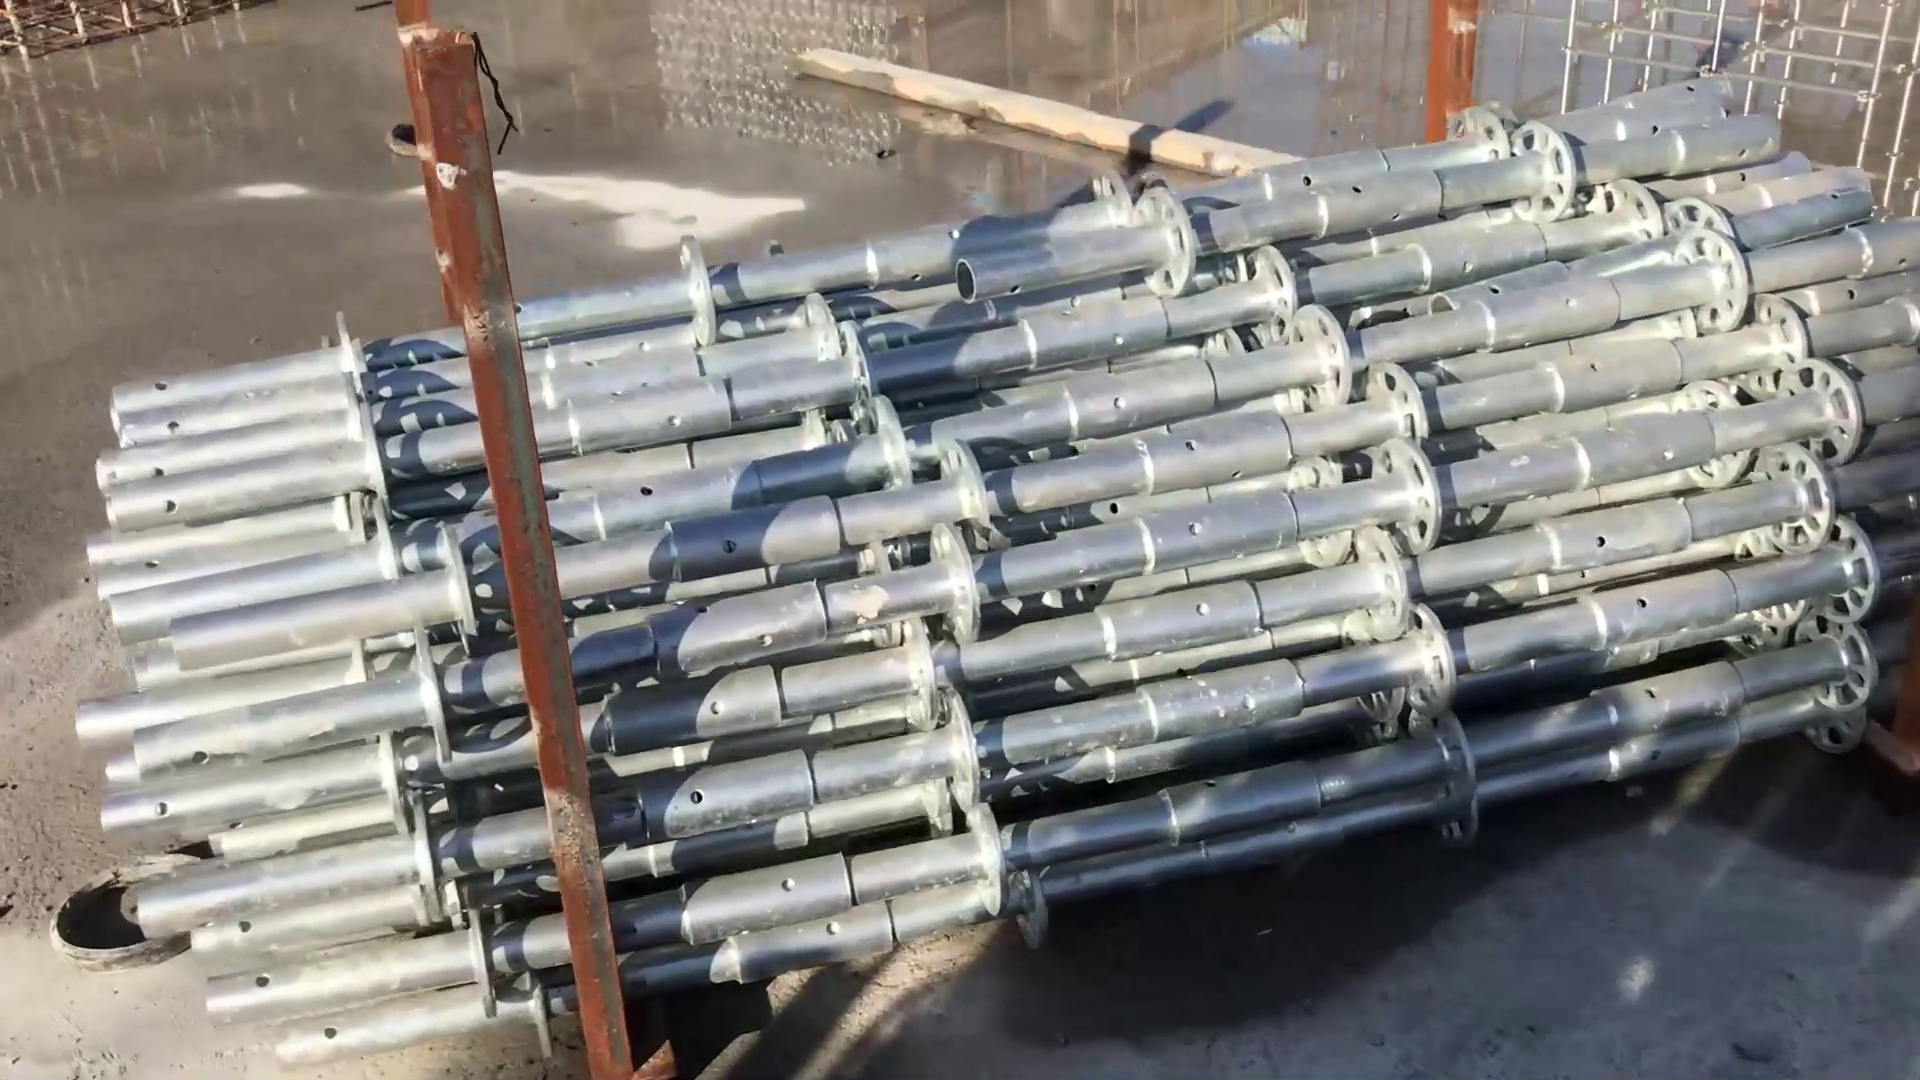scaffold: (86, 80, 1919, 1051)
